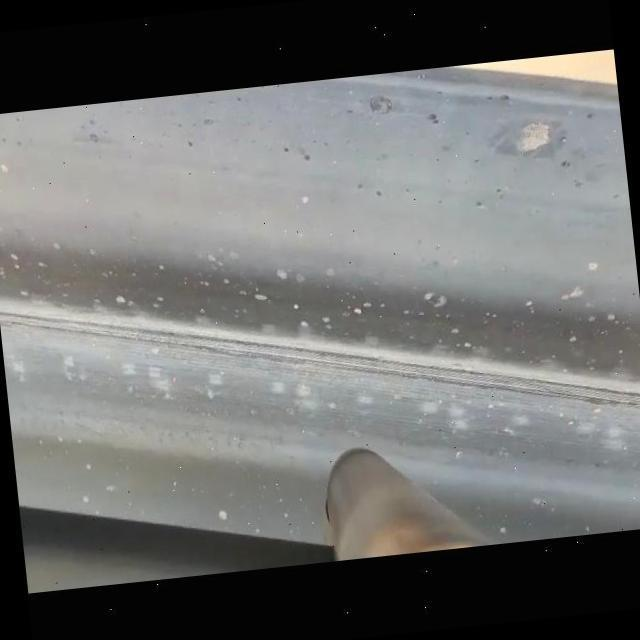Wear: (0, 302, 640, 411), (487, 112, 567, 168)
